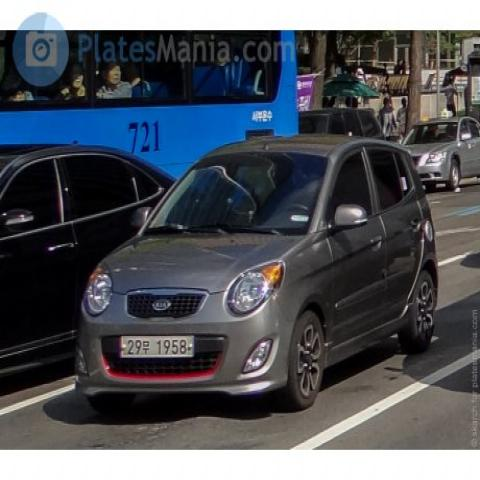LP: (120, 331, 196, 362)
